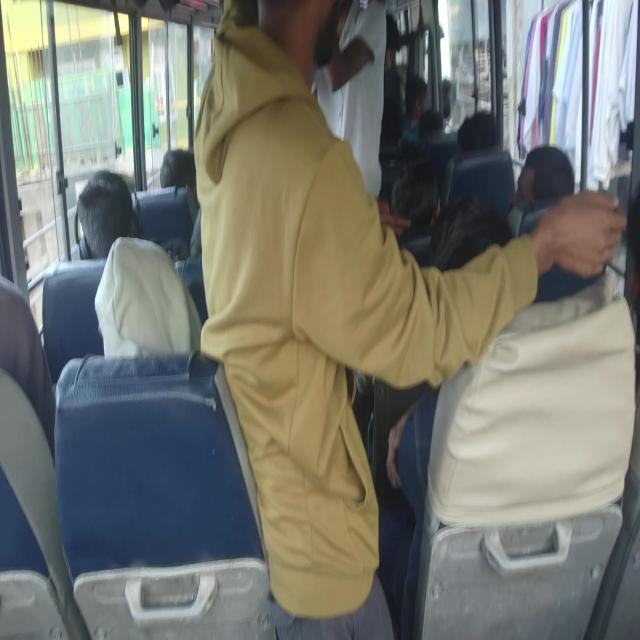person: (246, 0, 355, 270), (416, 199, 515, 284), (100, 241, 168, 343), (326, 0, 384, 117), (507, 140, 587, 222), (77, 171, 143, 264), (156, 133, 210, 206), (3, 285, 40, 387), (391, 162, 448, 228), (458, 108, 506, 162), (382, 0, 412, 84), (410, 71, 440, 105), (424, 102, 448, 137)
